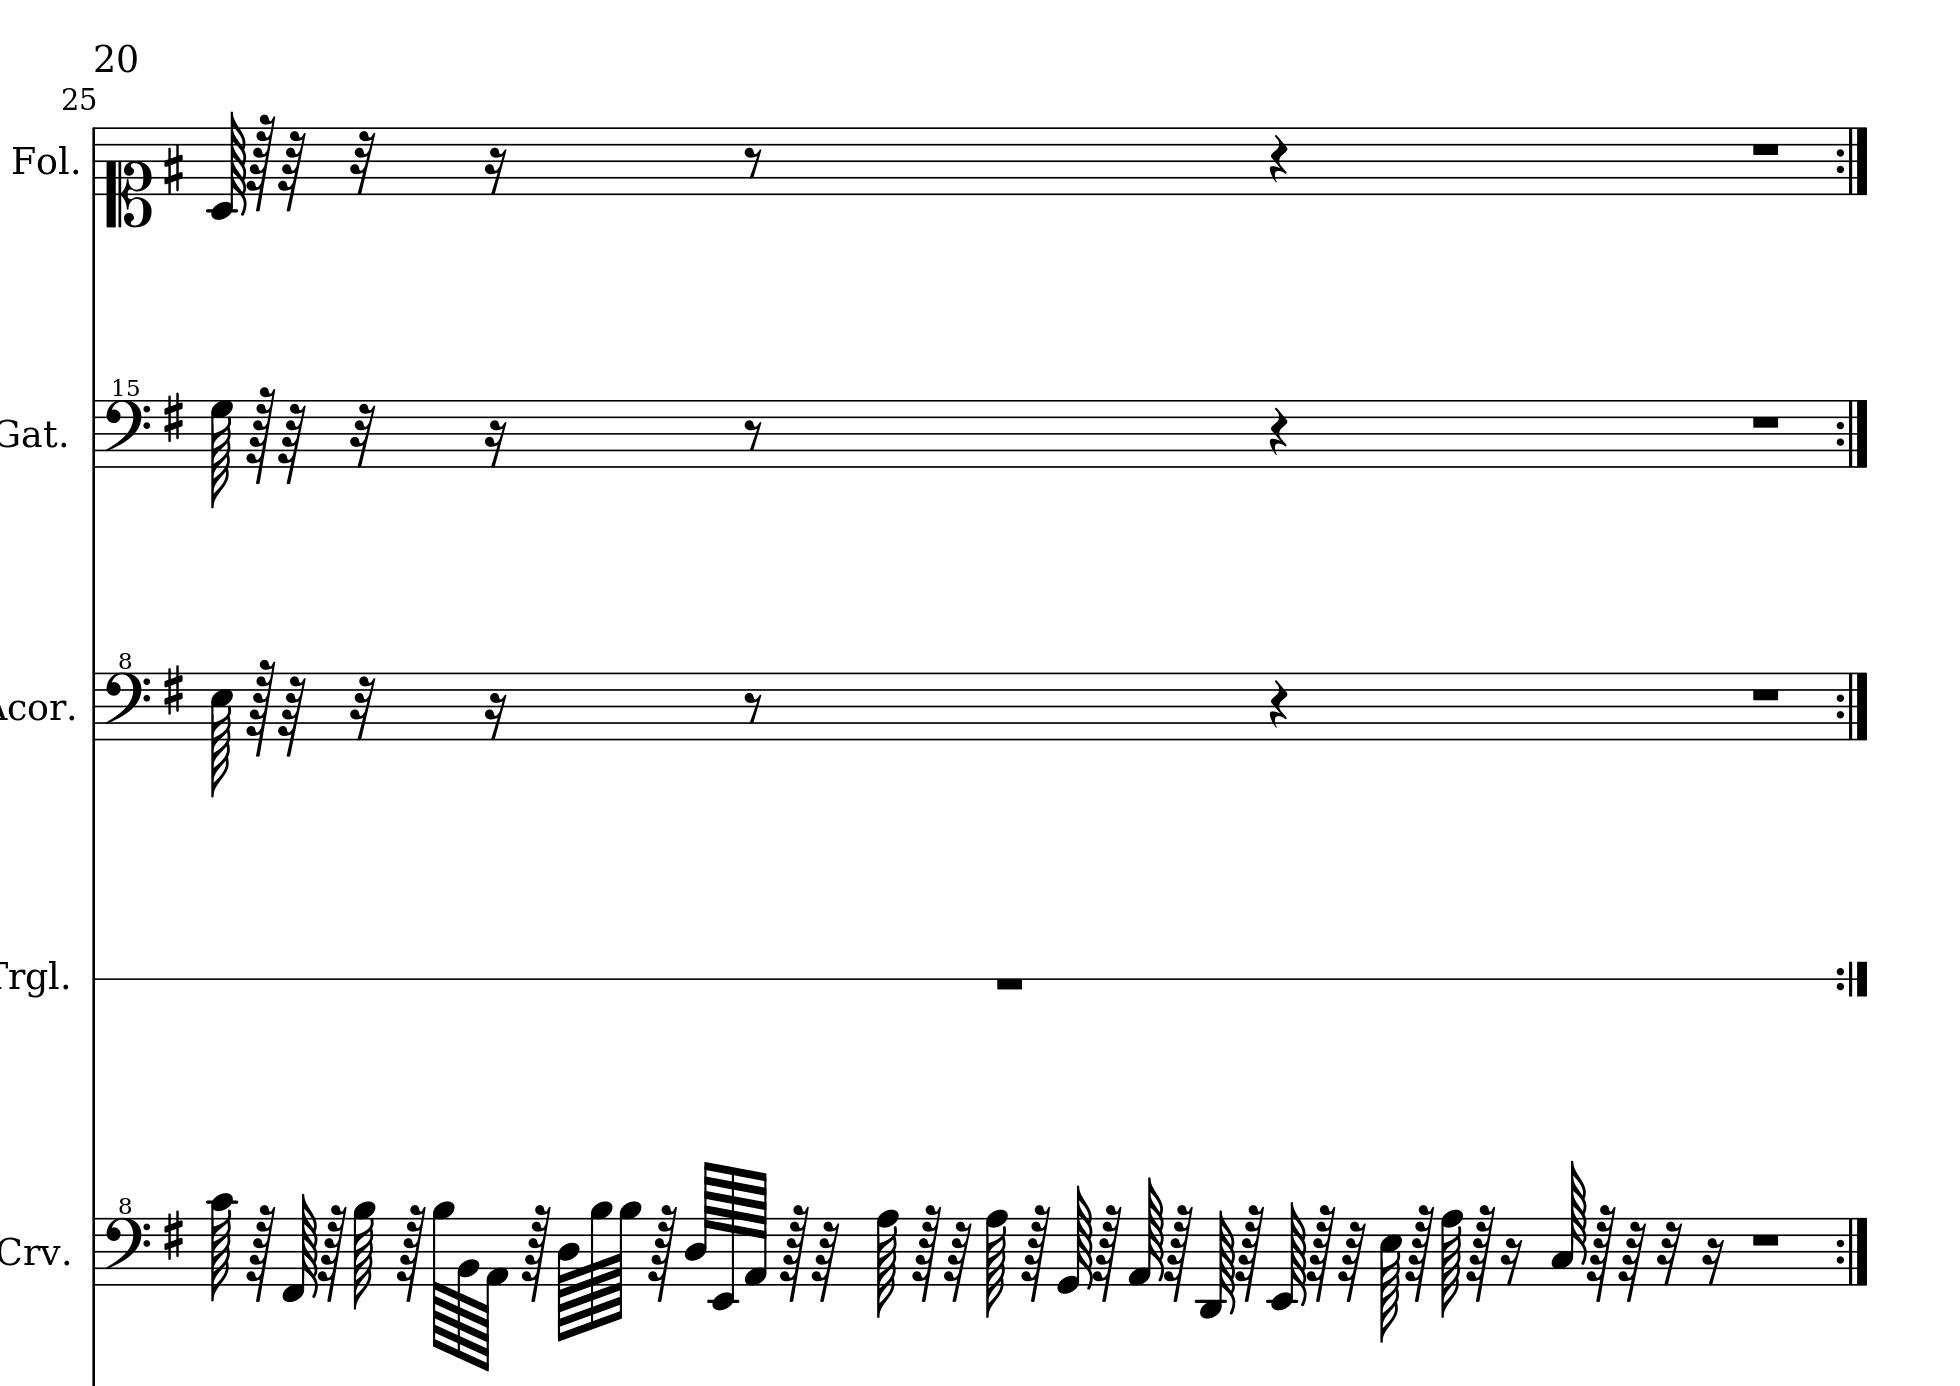0: (115, 40, 136, 73)
128_-1: (283, 1189, 318, 1303)
128_-2: (205, 109, 250, 220), (709, 1162, 738, 1311), (1270, 1201, 1306, 1311)
128_-3: (1197, 1210, 1239, 1320)
128_0: (1056, 1183, 1093, 1296)
128_1: (1128, 1176, 1167, 1287), (481, 1218, 508, 1375), (742, 1168, 769, 1288)
128_10: (205, 1191, 238, 1302)
128_2: (456, 1216, 480, 1363)
128_3: (1551, 1159, 1587, 1287)
128_4: (682, 1158, 714, 1285), (556, 1216, 580, 1342)
128_5: (208, 669, 232, 796), (1378, 1216, 1401, 1344)
128_7: (208, 399, 232, 507)
128_8: (984, 1207, 1011, 1318), (1438, 1207, 1464, 1314), (874, 1209, 898, 1321)
128_9: (430, 1198, 454, 1356), (610, 1198, 640, 1320), (588, 1201, 613, 1330), (352, 1200, 376, 1311)
2: (91, 40, 115, 73), (60, 85, 79, 112)
5: (79, 85, 96, 112)
DHigh_Fclef: (99, 375, 148, 468)
High_Fclef: (100, 1194, 151, 1288), (100, 649, 151, 742)
Rests1: (1746, 411, 1785, 433), (993, 973, 1029, 997), (1746, 138, 1783, 160), (1747, 682, 1783, 705), (1747, 1228, 1783, 1248)
Rests128: (1584, 1201, 1617, 1303), (1236, 1201, 1269, 1300), (1404, 1203, 1437, 1302), (1464, 1201, 1497, 1300), (1164, 1201, 1197, 1299), (912, 1201, 943, 1300), (1020, 1201, 1051, 1300), (1092, 1201, 1123, 1300), (244, 1201, 274, 1302), (244, 384, 274, 483), (244, 657, 274, 756), (1308, 1201, 1338, 1300), (522, 1201, 550, 1302), (781, 1201, 810, 1300), (319, 1201, 346, 1302), (397, 1203, 424, 1303), (649, 1203, 676, 1302), (249, 111, 274, 211)
Rests16: (1656, 1219, 1683, 1287), (483, 417, 508, 469), (481, 690, 507, 742), (1701, 1234, 1725, 1287), (483, 145, 507, 196), (1500, 1236, 1524, 1285)
Rests32: (348, 400, 376, 469), (348, 129, 376, 196), (348, 673, 375, 742)
Rests4: (1267, 132, 1290, 184), (1267, 405, 1290, 457), (1267, 678, 1290, 730)
Rests64: (943, 1219, 975, 1302), (1618, 1218, 1648, 1303), (811, 1219, 841, 1302), (1338, 1219, 1368, 1302), (279, 127, 306, 213), (277, 400, 304, 484), (277, 673, 304, 754)
Rests8: (742, 144, 763, 178), (742, 417, 763, 451), (742, 688, 763, 723)
RightRepeatSign: (1833, 670, 1872, 741), (1833, 399, 1872, 468), (1834, 126, 1872, 195), (1834, 1216, 1872, 1285), (1836, 960, 1869, 997)
Sharp: (157, 388, 186, 445), (159, 1207, 186, 1263), (159, 661, 184, 717), (160, 142, 184, 196)
Single_barline: (85, 127, 102, 195), (87, 1218, 100, 1285), (87, 400, 100, 466), (87, 673, 100, 739)
Soprano_Cclef: (102, 123, 154, 229)
